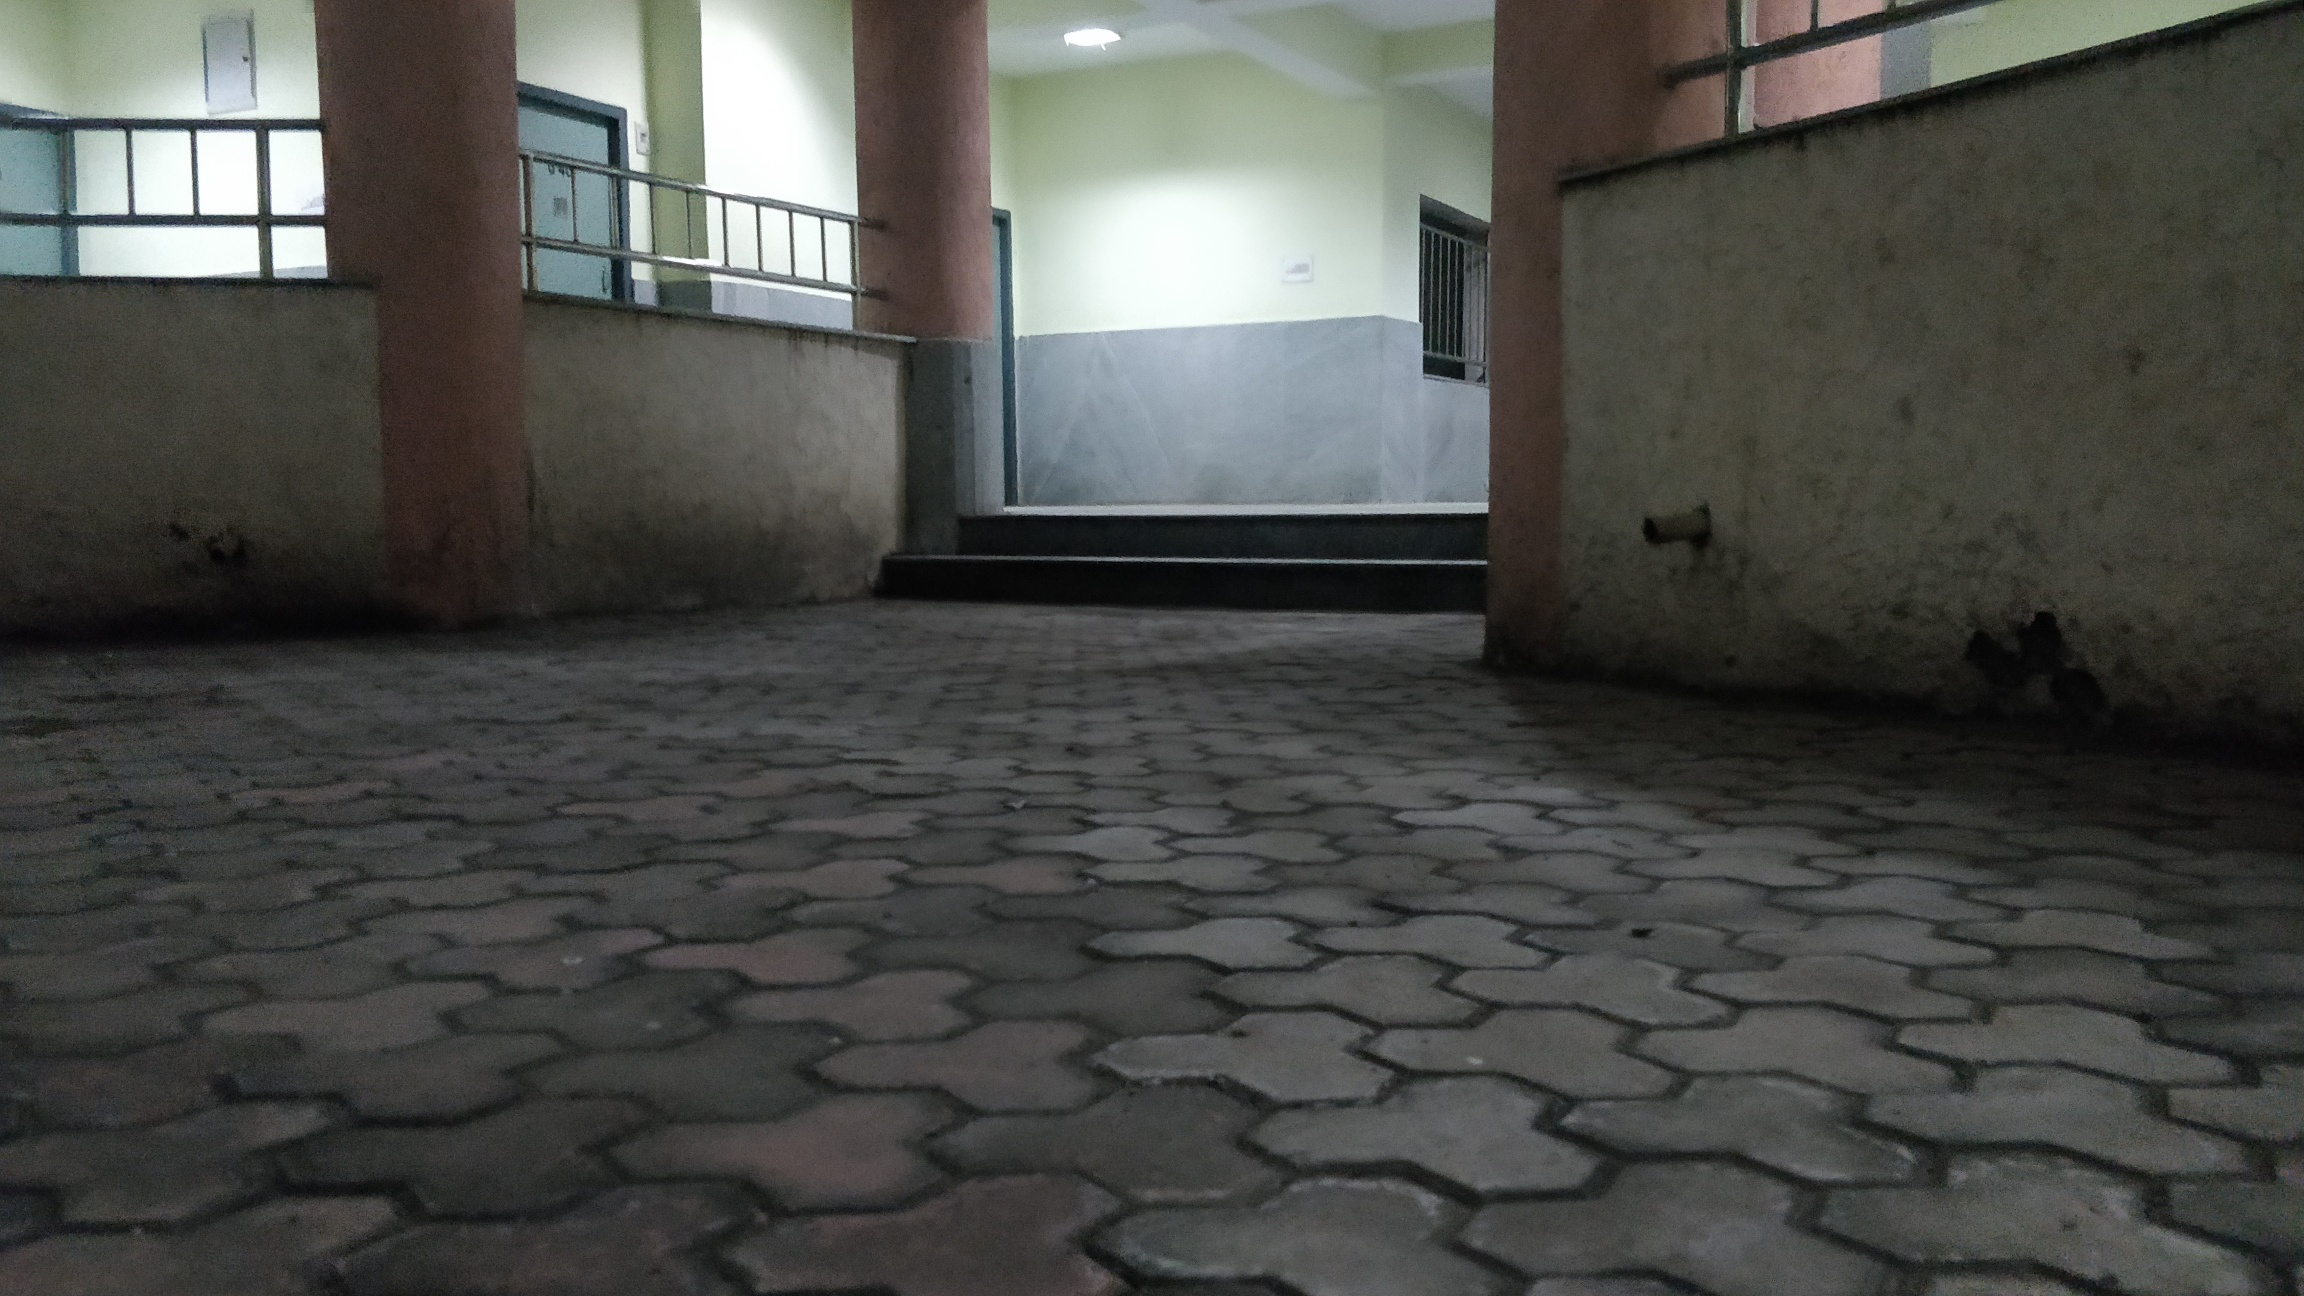stairs_up: (866, 498, 1486, 620)
